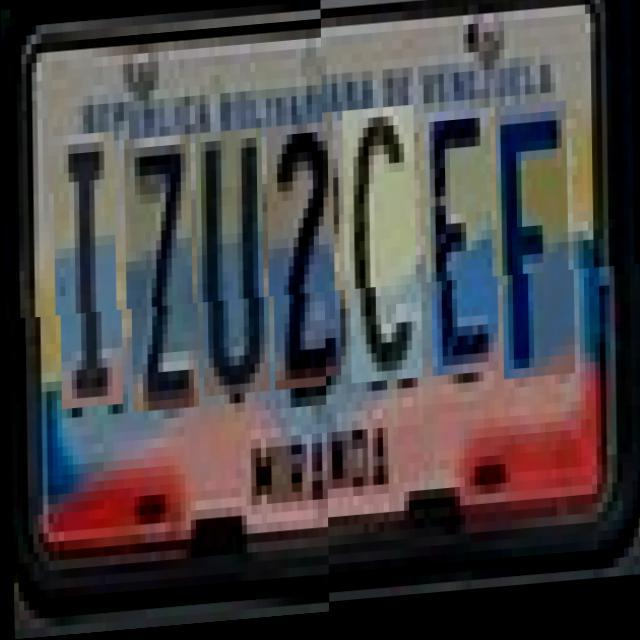2: (271, 127, 340, 396)
C: (348, 122, 422, 400)
E: (428, 126, 498, 394)
F: (500, 120, 574, 398)
I: (57, 133, 121, 410)
U: (200, 132, 269, 400)
Z: (129, 137, 198, 415)
